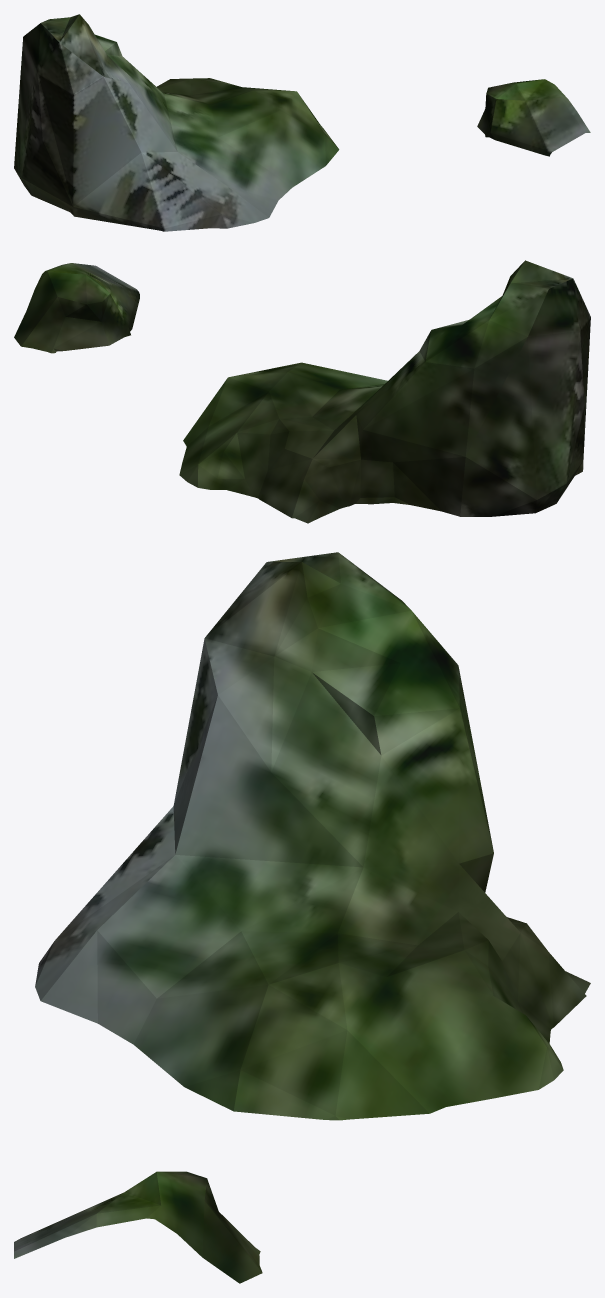
3 views of the same model, one above another, from view 1: azimuth 30°, elevation 25°; view 2: azimuth 150°, elevation 25°; view 3: azimuth 270°, elevation 25° (orthographic). The views are drawn at different scales.
Size of the model in its own units: 0.7264 by 0.2621 by 0.4119.
Materials: 1 (1 with a texture image).
